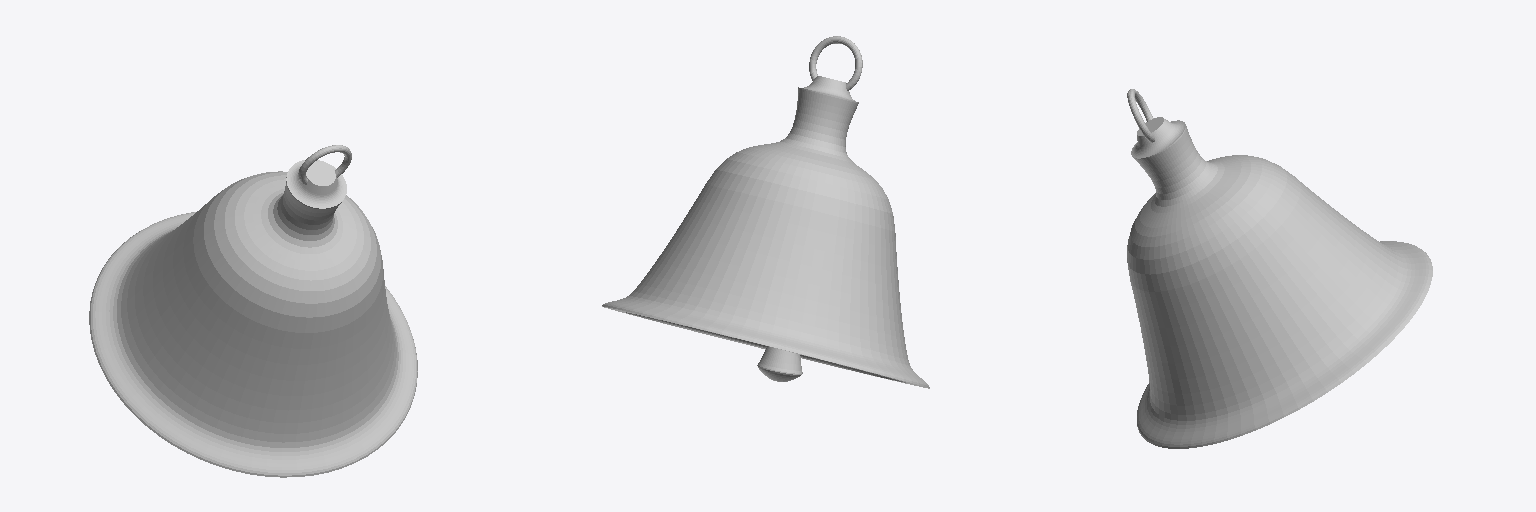
The model's file is churchbell.obj.
3 views of the same model, side by side, from view 1: azimuth 30°, elevation 25°; view 2: azimuth 150°, elevation 25°; view 3: azimuth 270°, elevation 25° (orthographic).
Parts seen in each view (by area): view 1: bell:Line001, bell:Line001 pTorus1; view 2: bell:Line001, bell:Line002, bell:Line001 pTorus1; view 3: bell:Line001, bell:Line001 pTorus1.
Part boxes in pixels (bbox=[...]): bell:Line001: bbox=[89, 160, 417, 477]; bell:Line001 pTorus1: bbox=[298, 145, 351, 184]; bell:Line001: bbox=[602, 76, 929, 388]; bell:Line002: bbox=[757, 346, 802, 381]; bell:Line001 pTorus1: bbox=[809, 36, 862, 90]; bell:Line001: bbox=[1127, 117, 1432, 448]; bell:Line001 pTorus1: bbox=[1127, 89, 1154, 142].
Size of the model in its own units: 411 by 440 by 371.